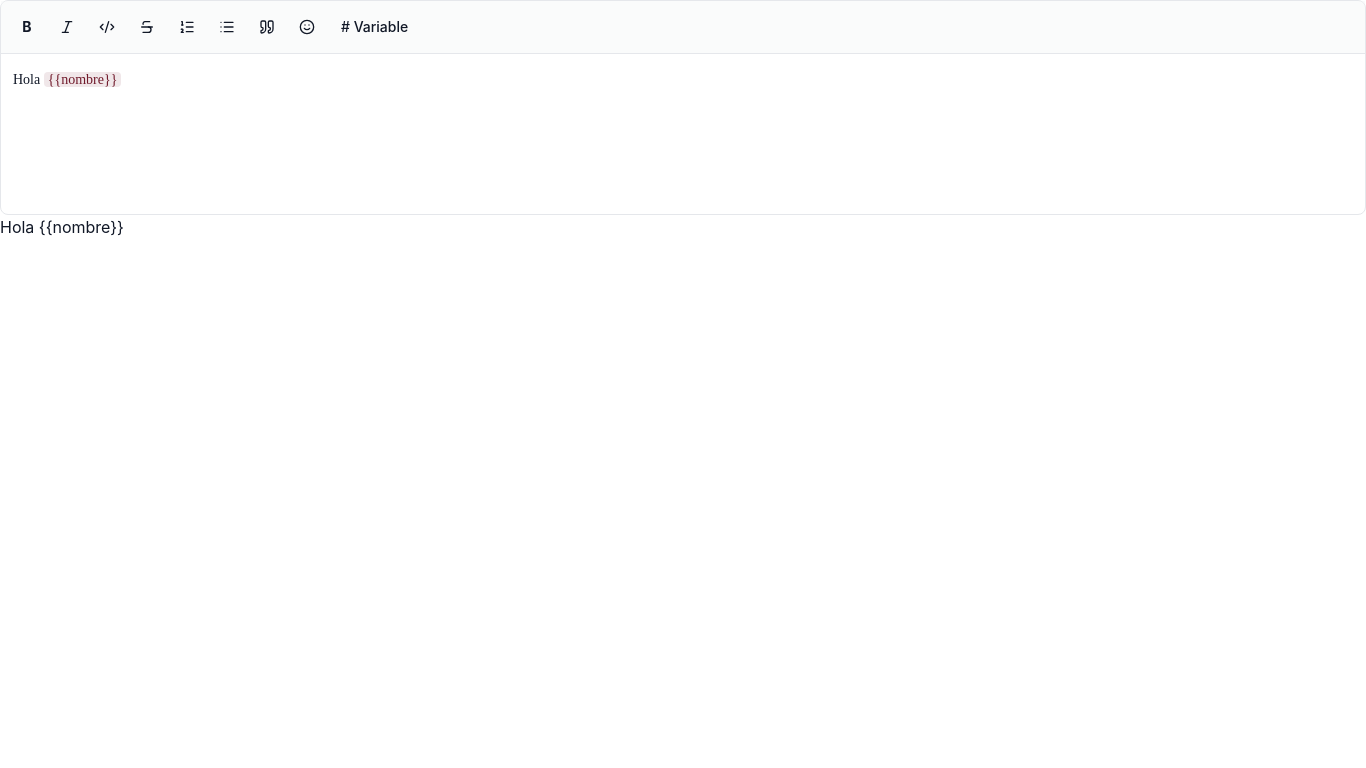
emoji and toolbar › searches categories and inserts a complete composed emoji at a selection
Click the button named "Insertar emoji" at x=307, y=27, box x1=289 y1=9 x2=325 y2=45
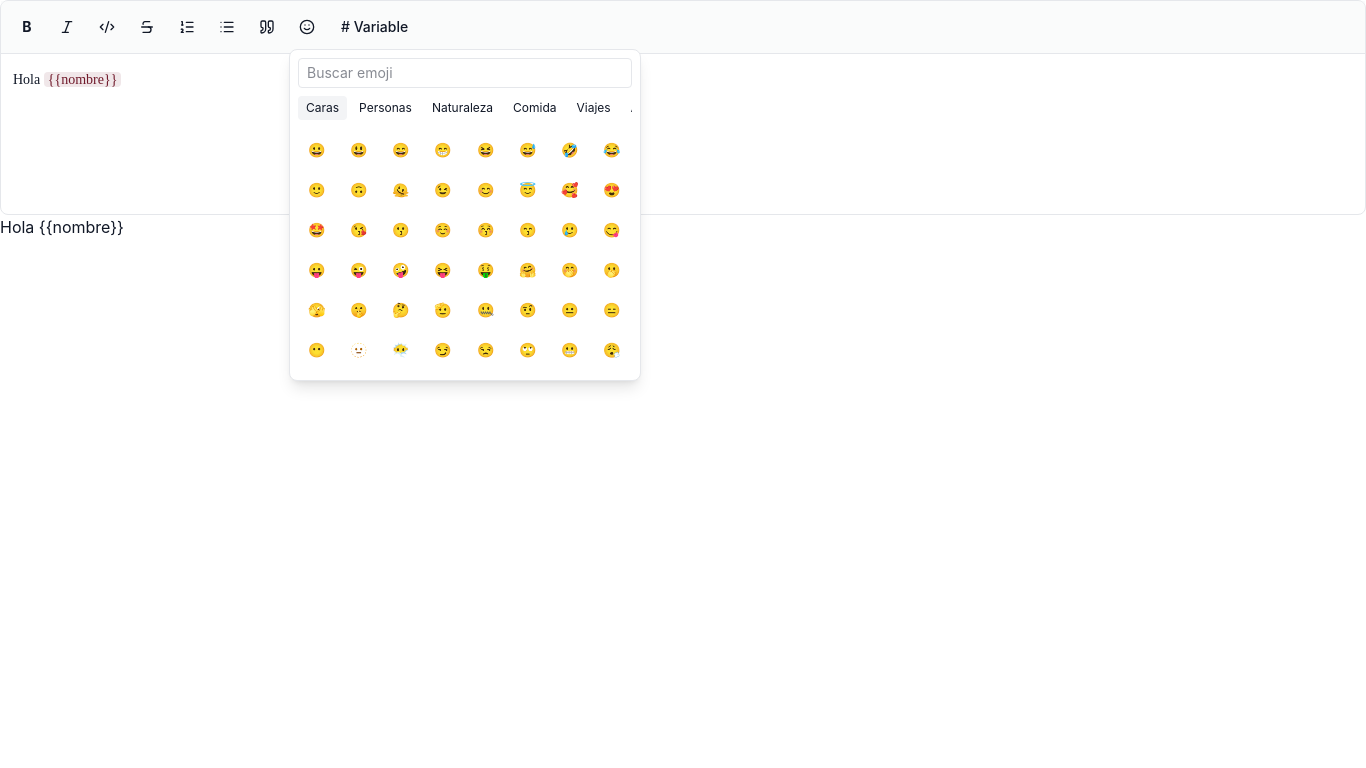
Result: the dialog named "Selector de emojis" is shown at x1=289 y1=49 x2=641 y2=381
Click the tab "Personas" at x=386, y=108, box x1=351 y1=96 x2=420 y2=120
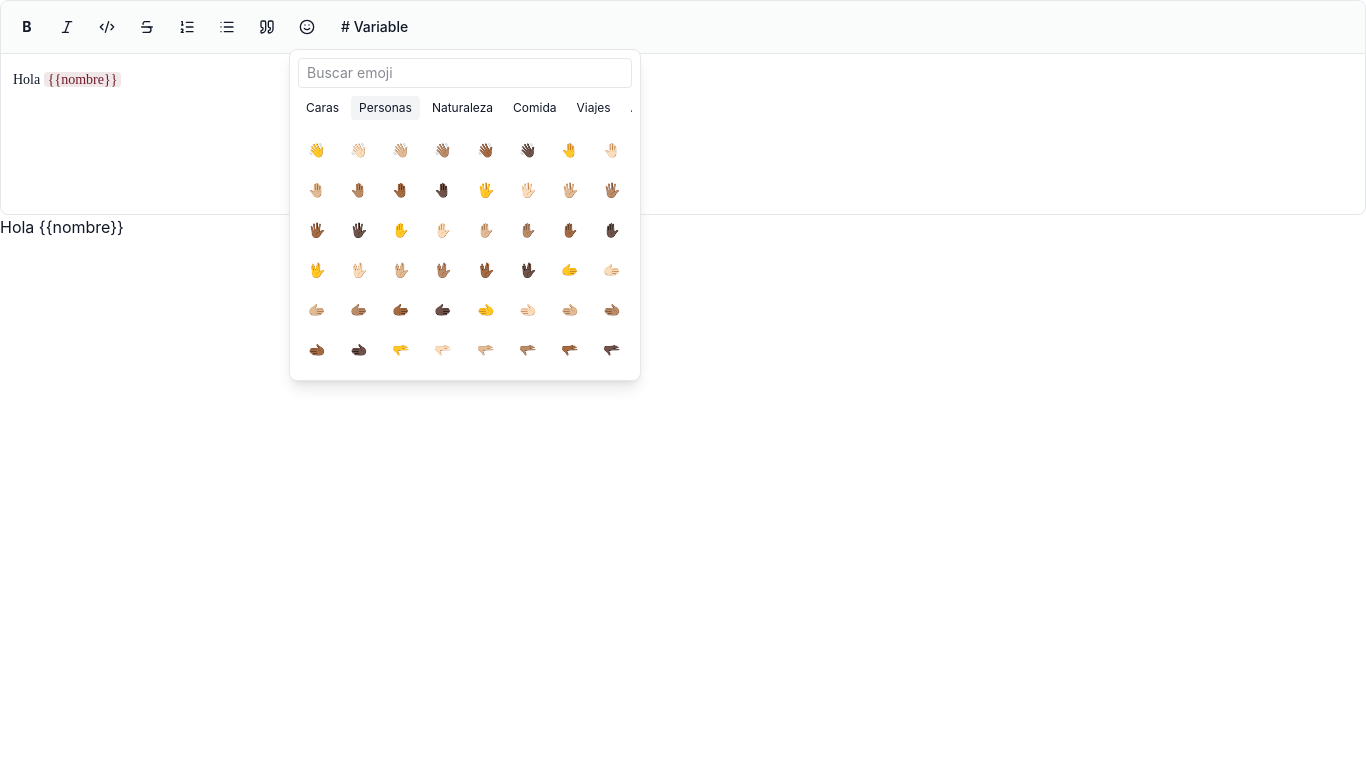
Type "woman technologist: medium skin tone" into the field labelled "Buscar emoji" at x=465, y=73, box x1=298 y1=58 x2=632 y2=88
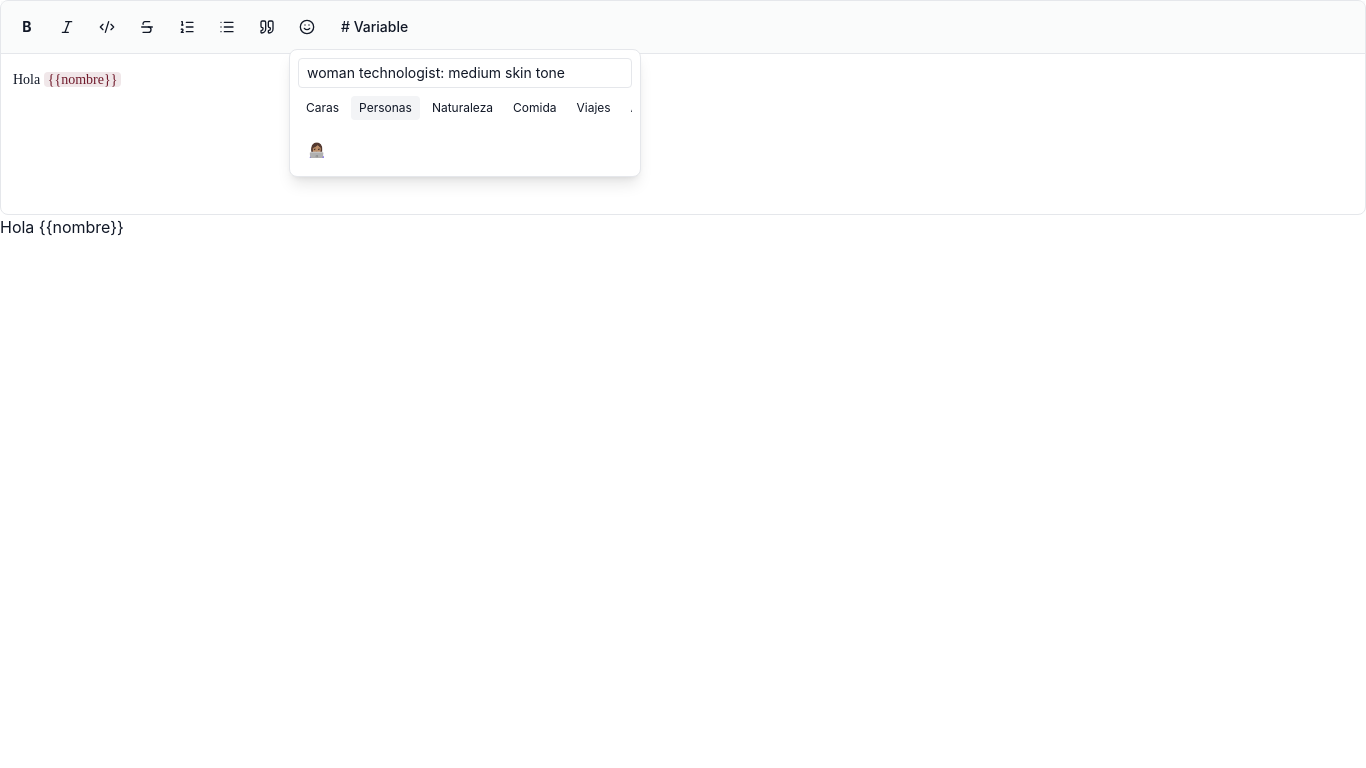
Click the button named "Insertar 👩🏽‍💻" at x=316, y=150, box x1=298 y1=132 x2=334 y2=168
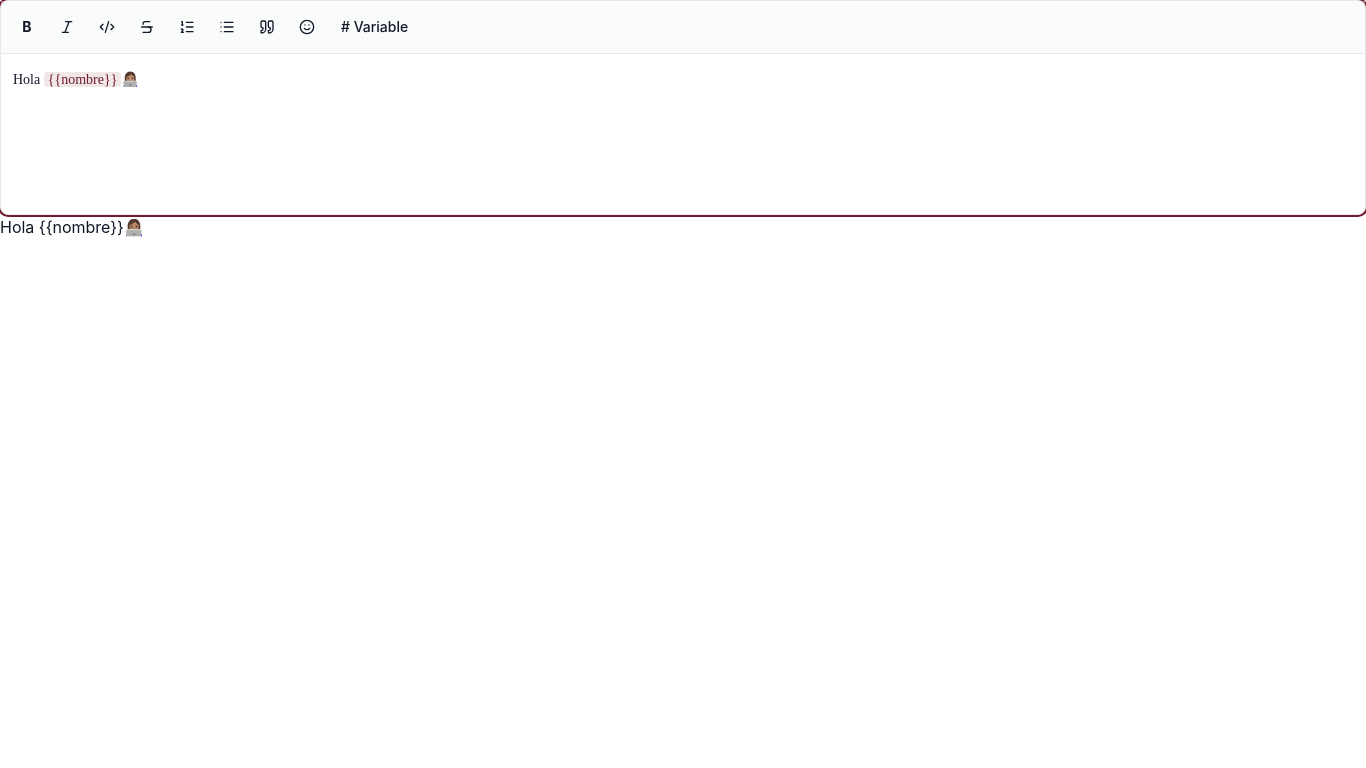
Expected: the text with test id "value" shows "{{nombre}}", x1=0 y1=217 x2=144 y2=237
Result: the text with test id "value" shows "👩🏽‍💻" at x1=0 y1=217 x2=144 y2=237
